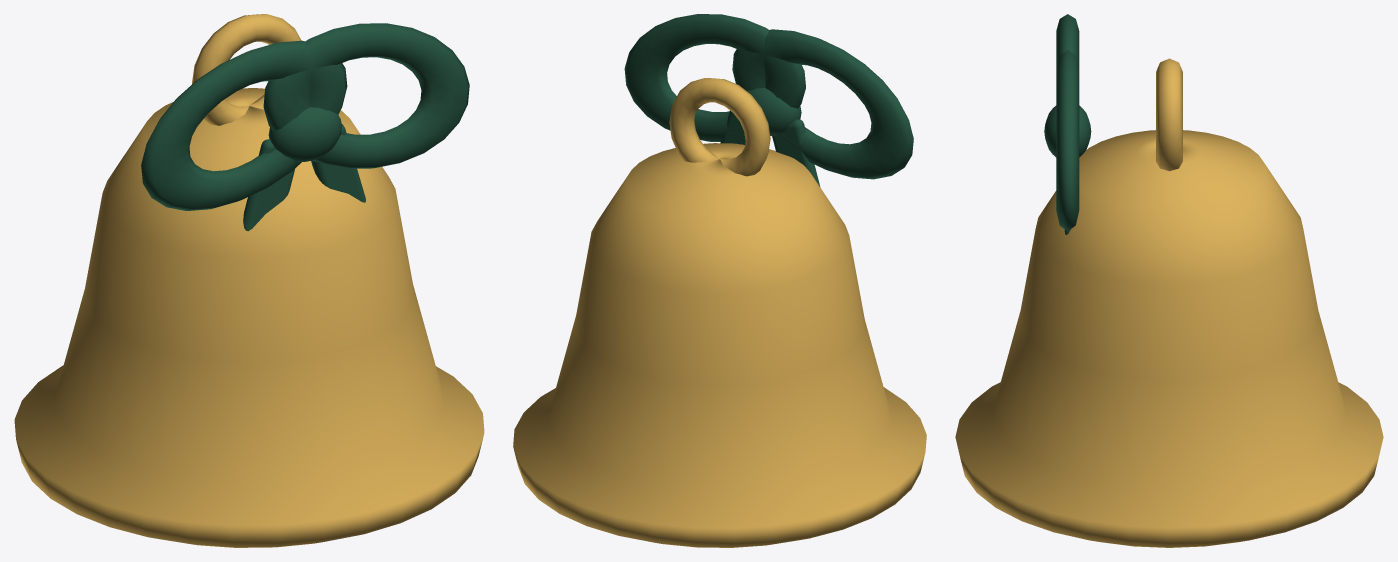
The model's file is bell.glb.
The picture shows the model from 3 angles, left to right: view 1: azimuth 30°, elevation 25°; view 2: azimuth 150°, elevation 25°; view 3: azimuth 270°, elevation 25°; orthographic projection. The views are drawn at different scales.
Visible parts, largest first — view 1: Bell; view 2: Bell; view 3: Bell.
Part boxes in pixels (x1,y1,x2,y2): Bell: (14,14,484,547); Bell: (513,14,926,547); Bell: (955,14,1383,547).
Size of the model in its own units: 0.8 by 0.9535 by 0.8.
